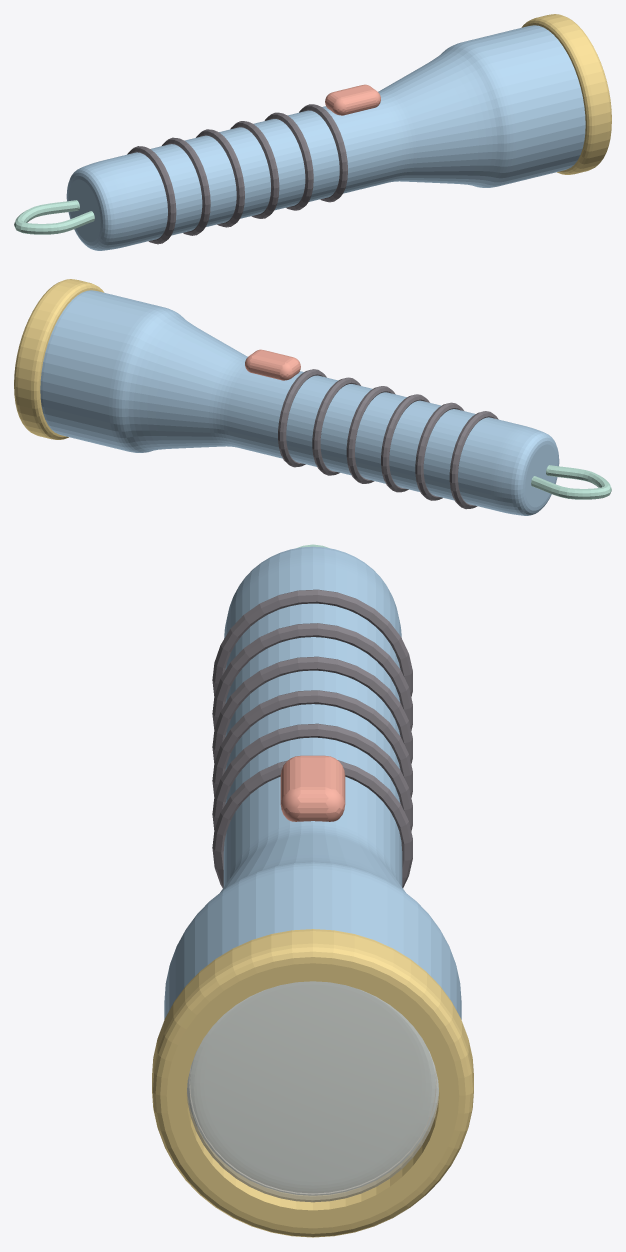
Rendered from flashlight.glb.
The picture shows the model from 3 angles, top to bottom: view 1: azimuth 30°, elevation 25°; view 2: azimuth 150°, elevation 25°; view 3: azimuth 270°, elevation 25°; orthographic projection. The views are drawn at different scales.
Parts seen in each view (by area): view 1: Flashlight_Body, Flashlight_Grip, Flashlight_Bezel, Flashlight_Strap, Flashlight_Button_Cap; view 2: Flashlight_Body, Flashlight_Grip, Flashlight_Bezel, Flashlight_Strap, Flashlight_Button_Cap; view 3: Flashlight_Body, lens, Flashlight_Bezel, Flashlight_Grip, Flashlight_Button_Cap.
Boxes of the visible parts, x1,y1,x2,y2 form: Flashlight_Body: (66, 25, 585, 250); Flashlight_Grip: (127, 104, 347, 244); Flashlight_Bezel: (521, 14, 611, 174); Flashlight_Strap: (14, 200, 94, 234); Flashlight_Button_Cap: (325, 84, 380, 115); Flashlight_Body: (40, 290, 559, 515); Flashlight_Grip: (278, 369, 498, 509); Flashlight_Bezel: (14, 279, 104, 439); Flashlight_Strap: (531, 465, 611, 499); Flashlight_Button_Cap: (245, 349, 300, 380); Flashlight_Body: (164, 546, 461, 1195); lens: (187, 981, 438, 1202); Flashlight_Bezel: (152, 929, 473, 1237); Flashlight_Grip: (212, 589, 412, 887); Flashlight_Button_Cap: (280, 755, 345, 821).
Bounding box in the file's own units: 0.2602 × 0.065 × 0.065.
